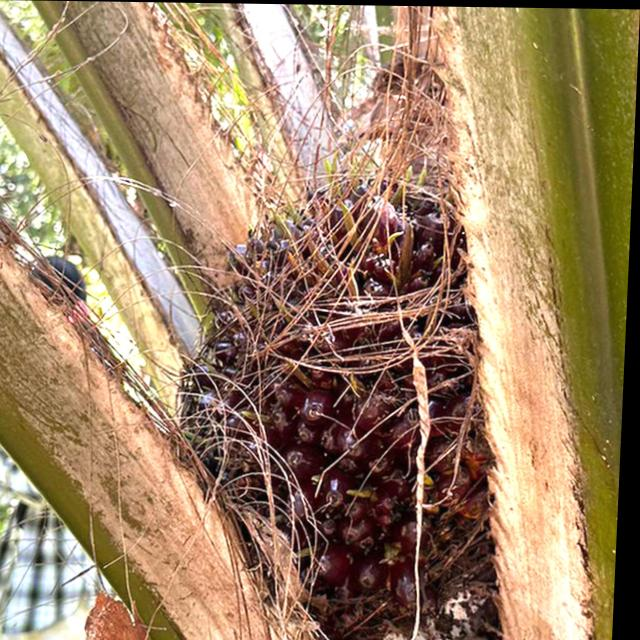almost: (165, 141, 513, 617)
